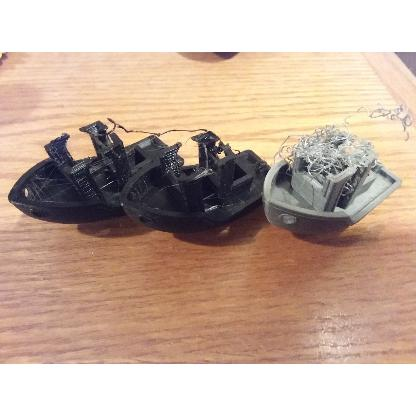fail: (278, 124, 360, 182), (25, 170, 69, 192)
